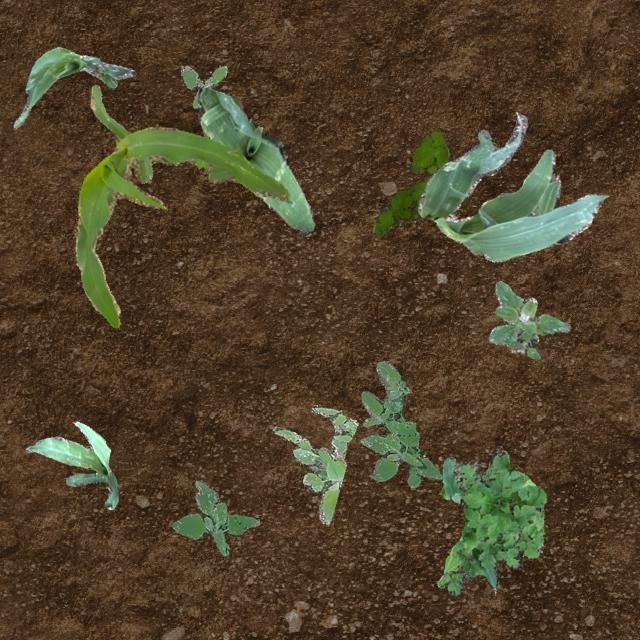crop: (73, 84, 290, 326), (417, 110, 608, 262), (196, 86, 314, 235), (12, 46, 134, 128), (24, 421, 118, 508), (450, 492, 460, 502)
weed: (436, 448, 546, 596), (358, 359, 442, 486), (272, 404, 358, 524), (372, 128, 448, 236), (488, 280, 570, 358), (172, 480, 258, 554), (180, 64, 227, 108)
